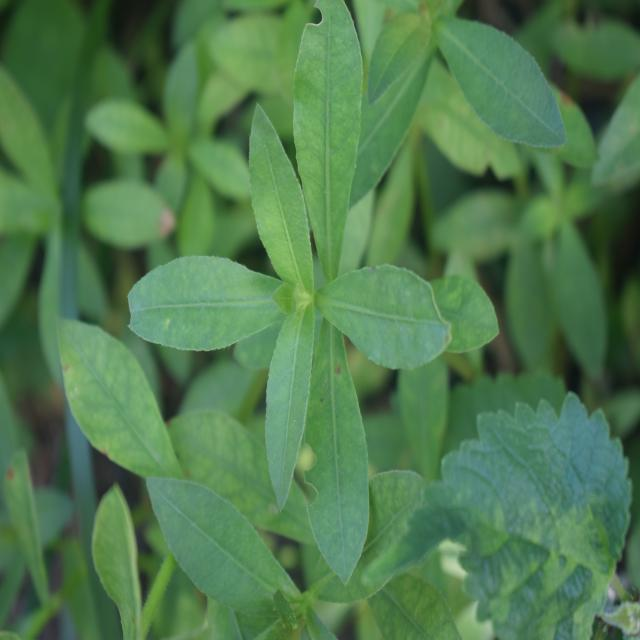Alligatorweed: (150, 21, 438, 564)
